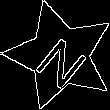N_NE: (28, 23, 93, 88)
